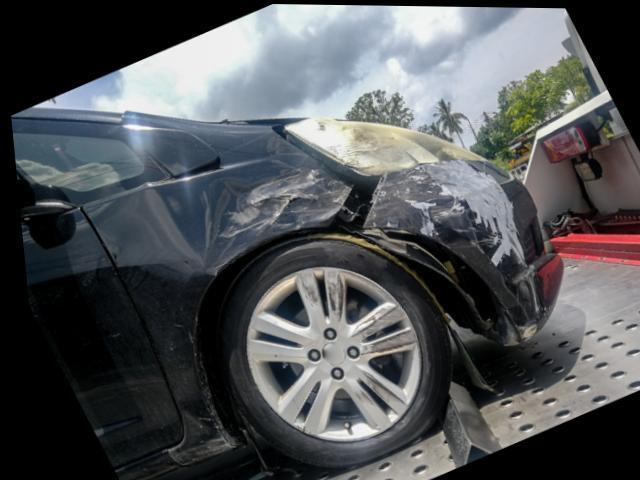scratch: (360, 165, 496, 257), (216, 164, 346, 244)
